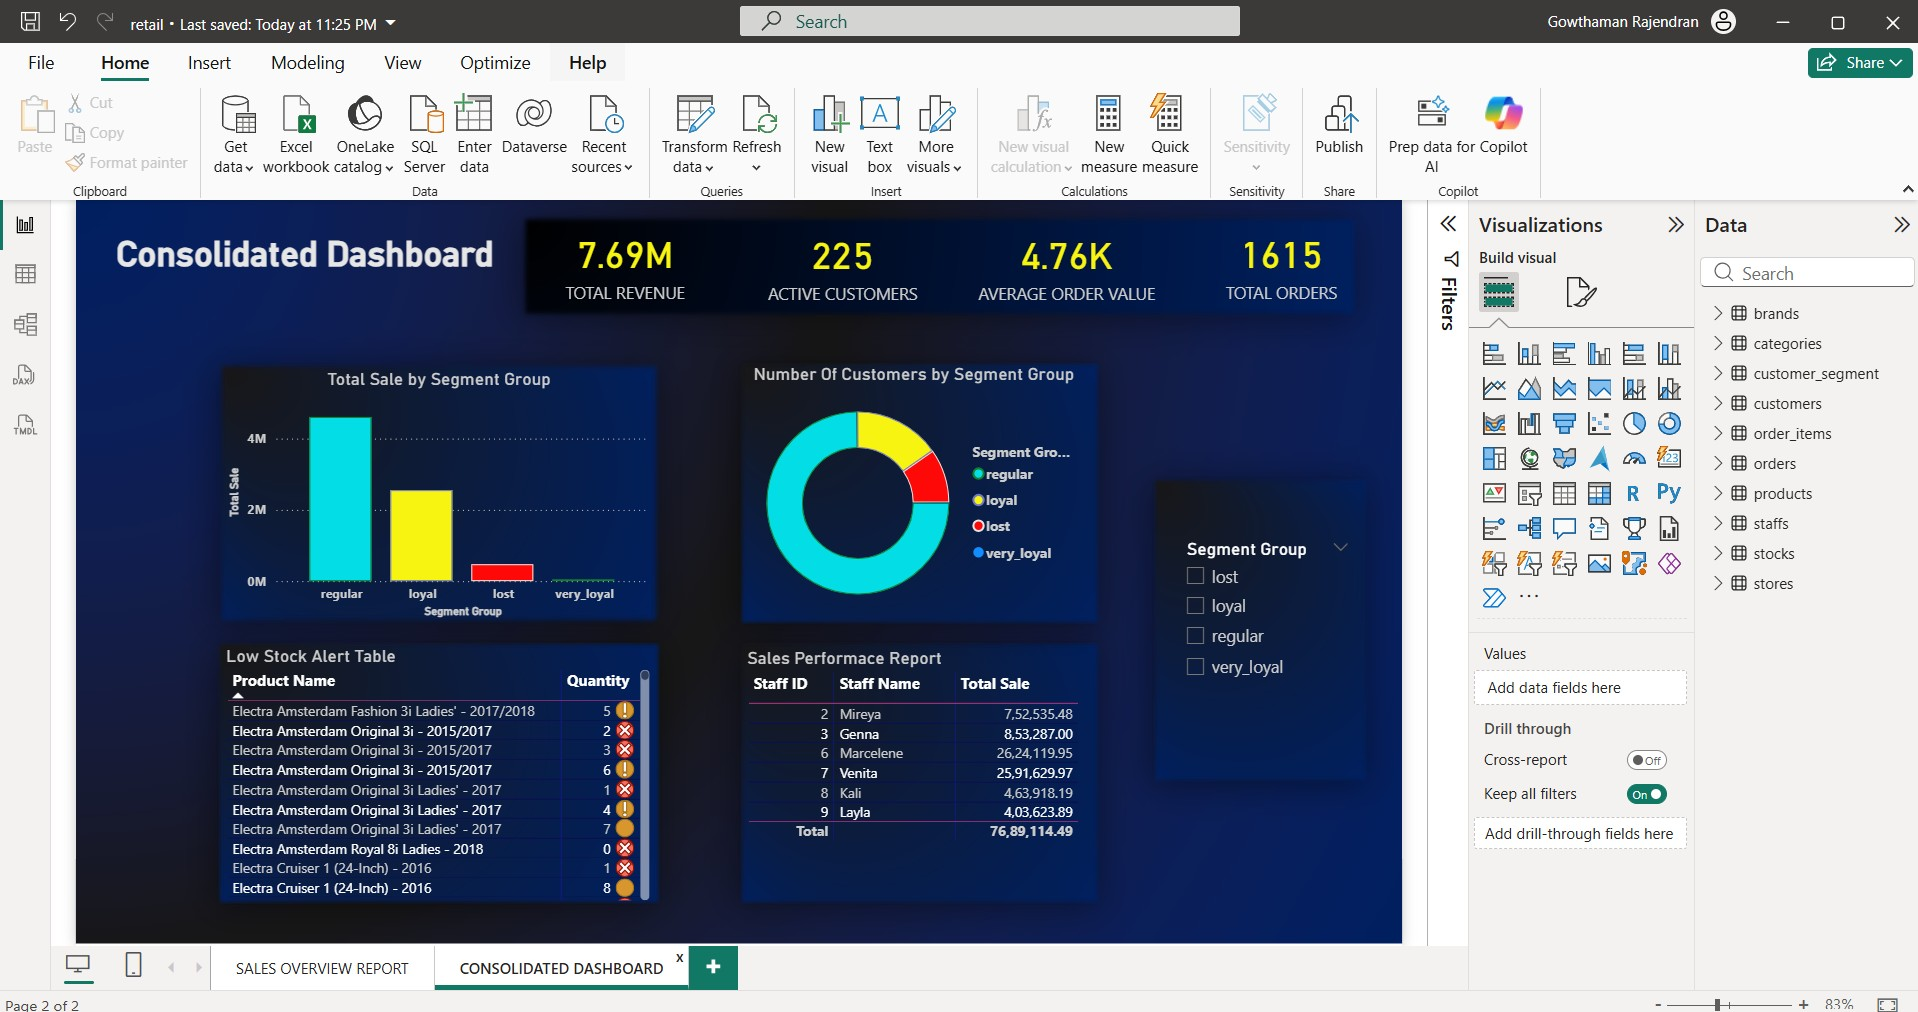

The page's visual inventory and layout, read from the dashboard file:
{"tool":"powerbi","page":{"name":"CONSOLIDATED DASHBOARD","canvas":[1280,720],"ordinal":1},"visuals":[{"type":"card","fields":{"Values":["order_items.totalSale"]},"box":[440,20,180,80],"z":5000},{"type":"card","fields":{"Values":["customer_segment.activeCustomers"]},"box":[650,21.2,180,80],"z":6000},{"type":"card","fields":{"Values":["orders.AOV"]},"box":[858.8,21.2,195,80],"z":7000},{"type":"card","fields":{"Values":["orders.totalOrders"]},"box":[1073.3,20.8,180,80],"z":8000},{"type":"textbox","box":[22.5,27.5,396.2,50],"z":9000},{"type":"donutChart","fields":{"Category":["customer_segment.segment_group"],"Y":["Count(customer_segment.customer_id)"]},"box":[640,157.5,338.8,250],"z":10000},{"type":"columnChart","fields":{"Category":["customer_segment.segment_group"],"Y":["Sum(order_items.total_sale)"]},"box":[142.5,162.5,416.2,245],"z":11000},{"type":"slicer","fields":{"Values":["customer_segment.segment_group"]},"box":[1058.8,322.5,181.2,170],"z":12000},{"type":"tableEx","title":"Low Stock Alert Table","fields":{"Values":["products.product_name","stocks.quantity"]},"box":[140,430,418.8,251.2],"z":13000},{"type":"tableEx","title":"Sales Performace Report","fields":{"Values":["staffs.staff_id","staffs.first_name","Sum(order_items.total_sale)"]},"box":[642.5,432.5,338.8,251.2],"z":14000}]}

Visuals, with their boxes on the page's 1280x720 design canvas (x1, y1, x2, y2). These are canvas units, not pixel positions in the 1918x1012 screenshot, which may show the page scaled, cropped or inside an application window:
card - order_items.totalSale: bbox=[440, 20, 620, 100]
card - customer_segment.activeCustomers: bbox=[650, 21, 830, 101]
card - orders.AOV: bbox=[859, 21, 1054, 101]
card - orders.totalOrders: bbox=[1073, 21, 1253, 101]
textbox: bbox=[22, 28, 419, 78]
donutChart - customer_segment.segment_group x Count(customer_segment.customer_id): bbox=[640, 158, 979, 408]
columnChart - customer_segment.segment_group x Sum(order_items.total_sale): bbox=[142, 162, 559, 408]
slicer - customer_segment.segment_group: bbox=[1059, 322, 1240, 492]
"Low Stock Alert Table" tableEx: bbox=[140, 430, 559, 681]
"Sales Performace Report" tableEx: bbox=[642, 432, 981, 684]
